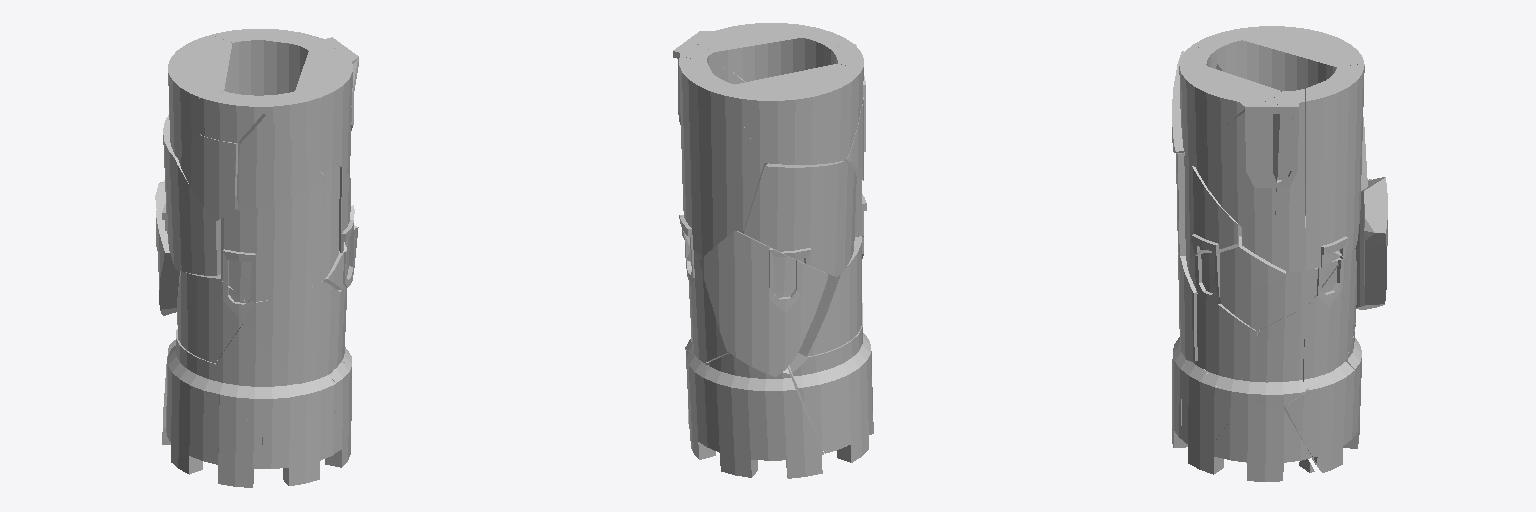
File: destruction_tower_000017.obj
3 views of the same model, side by side, from view 1: azimuth 30°, elevation 25°; view 2: azimuth 150°, elevation 25°; view 3: azimuth 270°, elevation 25° (orthographic).
Parts seen in each view (by area): view 1: tower.001_cell.024_Mesh.024, tower.001_cell.028_Mesh.028, tower.001_cell.021_Mesh.021, tower.001_cell.006_Mesh.006, tower.001_cell.011_Mesh.011, tower.001_cell.002_Mesh.002, tower.001_cell.013_Mesh.013, tower.001_cell.003_Mesh.003, tower.001_cell.015_Mesh.015, tower.001_cell.009_Mesh.009, tower.001_cell.017_Mesh.017, tower.001_cell.014_Mesh.014 (+9 smaller); view 2: tower.001_cell.025_Mesh.025, tower.001_cell.017_Mesh.017, tower.001_cell.007_Mesh.007, tower.001_cell.015_Mesh.015, tower.001_cell.003_Mesh.003, tower.001_cell.005_Mesh.005, tower.001_cell.028_Mesh.028, tower.001_cell.009_Mesh.009, tower.001_cell.012_Mesh.012, tower.001_cell.029_Mesh.029, tower.001_cell.006_Mesh.006, tower.001_cell.026_Mesh.026 (+2 smaller); view 3: tower.001_cell.017_Mesh.017, tower.001_cell.020_Mesh.020, tower.001_cell.015_Mesh.015, tower.001_cell.028_Mesh.028, tower.001_cell.030_Mesh.030, tower.001_cell.012_Mesh.012, tower.001_cell.029_Mesh.029, tower.001_cell_Mesh, tower.001_cell.016_Mesh.016, tower.001_cell.010_Mesh.010, tower.001_cell.023_Mesh.023, tower.001_cell.025_Mesh.025 (+11 smaller).
Boxes of the visible parts, <box> form: tower.001_cell.024_Mesh.024: <box>221,178,325,302</box>; tower.001_cell.028_Mesh.028: <box>256,51,358,173</box>; tower.001_cell.021_Mesh.021: <box>244,281,340,386</box>; tower.001_cell.006_Mesh.006: <box>170,390,262,487</box>; tower.001_cell.011_Mesh.011: <box>262,377,335,485</box>; tower.001_cell.002_Mesh.002: <box>237,114,325,210</box>; tower.001_cell.013_Mesh.013: <box>214,322,296,434</box>; tower.001_cell.003_Mesh.003: <box>162,115,220,275</box>; tower.001_cell.015_Mesh.015: <box>168,35,231,160</box>; tower.001_cell.009_Mesh.009: <box>177,272,244,362</box>; tower.001_cell.017_Mesh.017: <box>212,29,317,195</box>; tower.001_cell.014_Mesh.014: <box>179,135,235,220</box>; tower.001_cell.025_Mesh.025: <box>699,231,828,376</box>; tower.001_cell.017_Mesh.017: <box>679,56,767,256</box>; tower.001_cell.007_Mesh.007: <box>704,353,823,478</box>; tower.001_cell.015_Mesh.015: <box>729,64,861,164</box>; tower.001_cell.003_Mesh.003: <box>744,161,856,276</box>; tower.001_cell.005_Mesh.005: <box>790,324,870,453</box>; tower.001_cell.028_Mesh.028: <box>699,23,849,81</box>; tower.001_cell.009_Mesh.009: <box>798,236,863,356</box>; tower.001_cell.012_Mesh.012: <box>686,250,728,362</box>; tower.001_cell.029_Mesh.029: <box>686,351,712,459</box>; tower.001_cell.006_Mesh.006: <box>837,346,873,462</box>; tower.001_cell.026_Mesh.026: <box>673,44,722,124</box>; tower.001_cell.017_Mesh.017: <box>1306,64,1364,257</box>; tower.001_cell.020_Mesh.020: <box>1193,100,1279,226</box>; tower.001_cell.015_Mesh.015: <box>1242,26,1363,112</box>; tower.001_cell.028_Mesh.028: <box>1179,47,1281,157</box>; tower.001_cell.030_Mesh.030: <box>1198,402,1312,481</box>; tower.001_cell.012_Mesh.012: <box>1304,249,1356,388</box>; tower.001_cell.029_Mesh.029: <box>1285,360,1354,472</box>; tower.001_cell_Mesh: <box>1197,293,1259,402</box>; tower.001_cell.016_Mesh.016: <box>1252,308,1306,407</box>; tower.001_cell.010_Mesh.010: <box>1187,236,1285,303</box>; tower.001_cell.023_Mesh.023: <box>1181,360,1243,468</box>; tower.001_cell.025_Mesh.025: <box>1305,177,1387,309</box>.
Bounding box in the file's own units: 45.72 × 97.27 × 50.